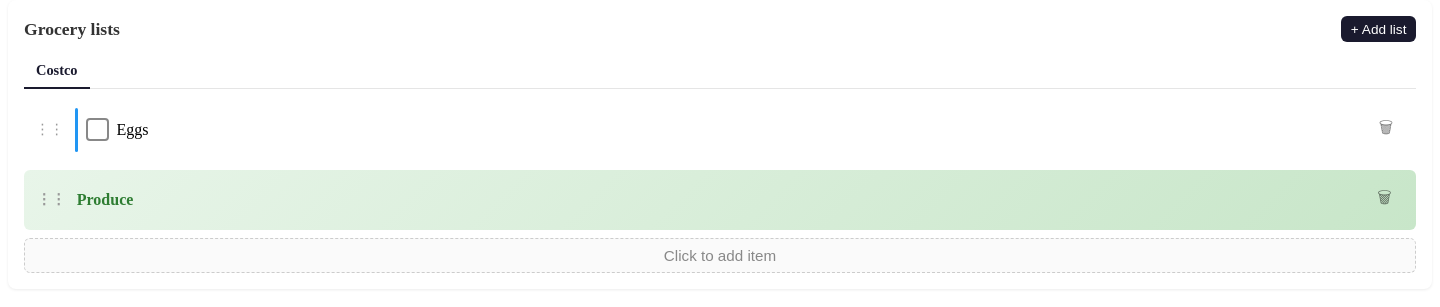
Test case: GroceryLists item delete flow › does not delete when canceling
Expected: the button "Eggs" is shown, [116,121,148,138]
Step 1. Click the button named "Delete" → [1386, 130], box [1364,108,1408,152]
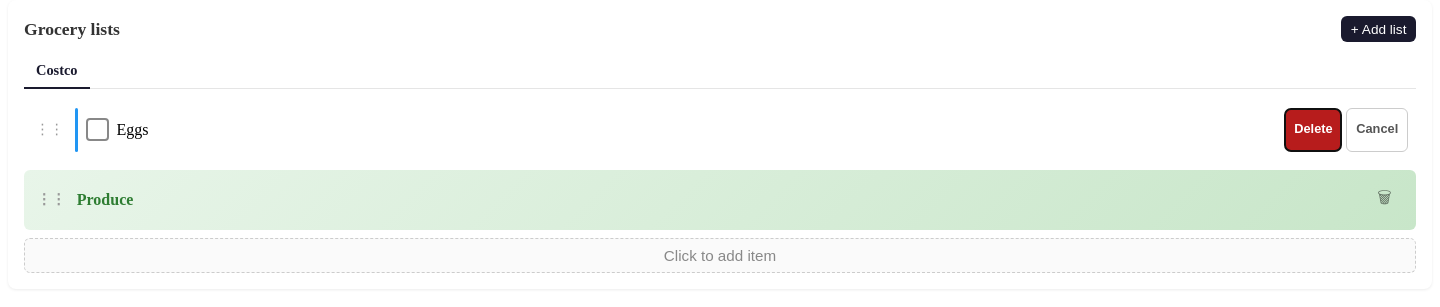
Step 2. Click the button "Cancel" → [1377, 130], box [1346,108,1408,152]
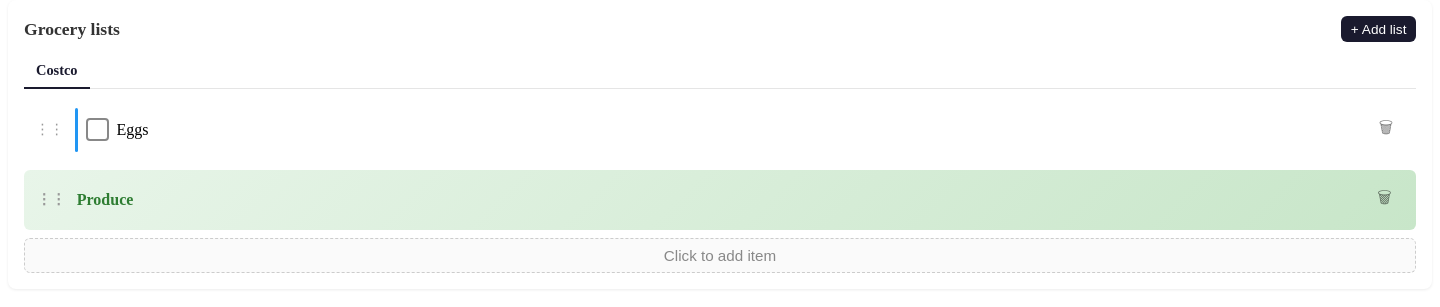
Expected: the button "Eggs" is shown, [116,121,148,138]
Expected: the button named "Delete" is shown, [1364,108,1408,152]
